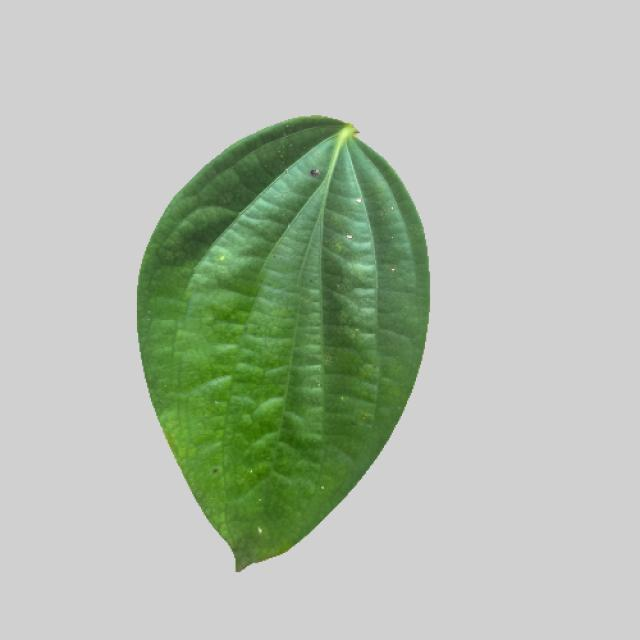healthy: (129, 110, 438, 573)
